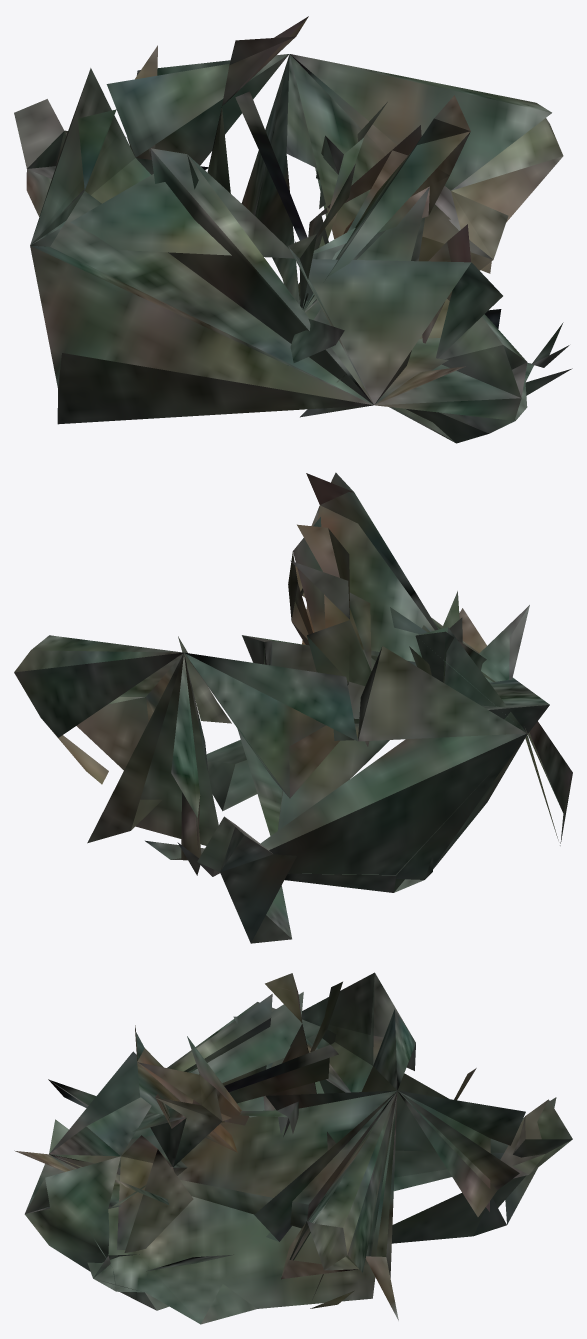
File: crystal_cluster_584962985_lod1.glb
3 views of the same model, one above another, from view 1: azimuth 30°, elevation 25°; view 2: azimuth 150°, elevation 25°; view 3: azimuth 270°, elevation 25° (orthographic). The views are drawn at different scales.
Size of the model in its own units: 2.25 by 1.39 by 2.49.
1 material, 1 textured.
